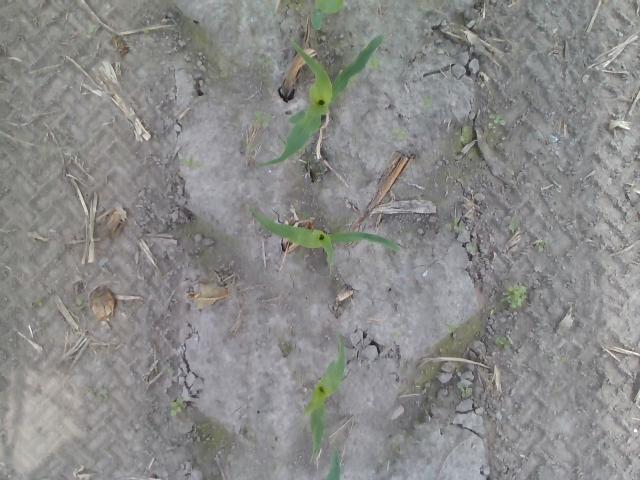Maize: (256, 34, 388, 167), (246, 198, 403, 272), (297, 330, 347, 464), (311, 0, 346, 30), (319, 447, 342, 480)
Weeds: (502, 284, 526, 308), (455, 125, 473, 142), (254, 110, 272, 127), (180, 155, 202, 168), (170, 396, 184, 416), (488, 113, 506, 128), (87, 388, 109, 400), (440, 320, 460, 333), (444, 218, 464, 231), (367, 56, 383, 72), (458, 381, 472, 398), (392, 126, 408, 140), (495, 336, 512, 349), (420, 96, 433, 109), (346, 73, 358, 86), (82, 27, 95, 39), (259, 58, 273, 68), (509, 216, 517, 233), (241, 137, 252, 149), (162, 362, 173, 374), (554, 354, 566, 364), (536, 240, 546, 252), (466, 242, 476, 252), (74, 300, 83, 310), (393, 330, 402, 338), (36, 298, 42, 306), (363, 41, 369, 48), (143, 30, 149, 34)
